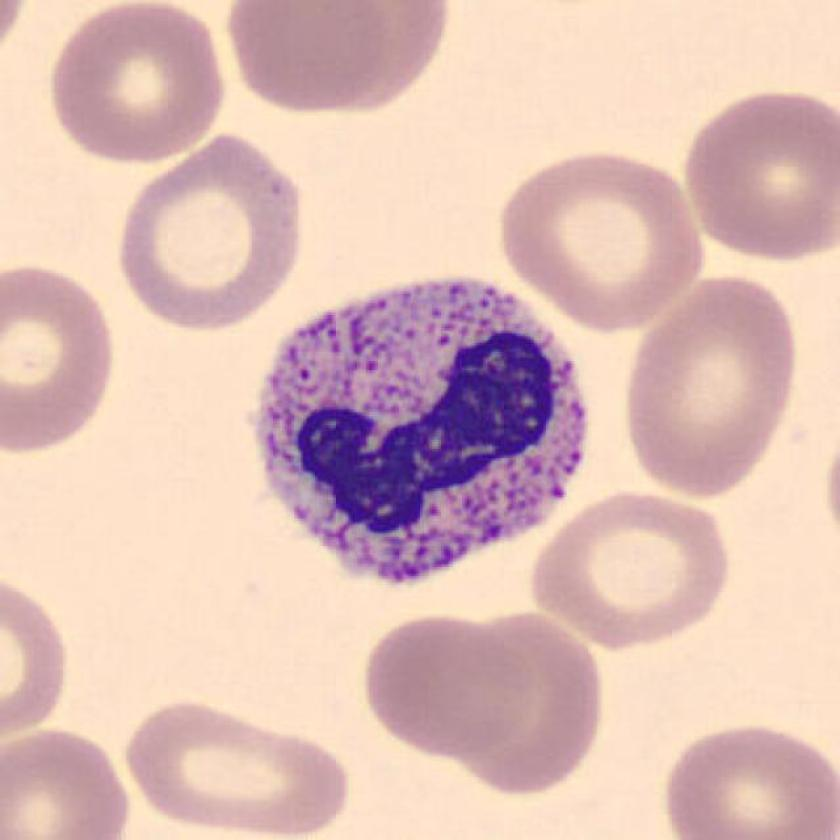neutrophil: (258, 270, 589, 585)
